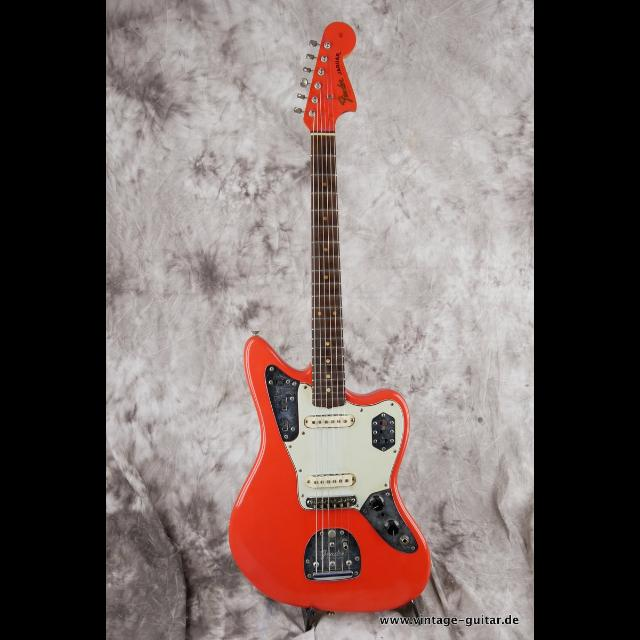Electric-Guitar: (228, 20, 437, 606)
